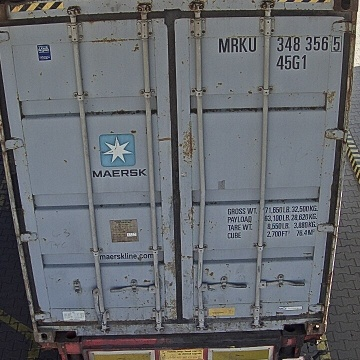serial_id: (219, 37, 341, 52)
